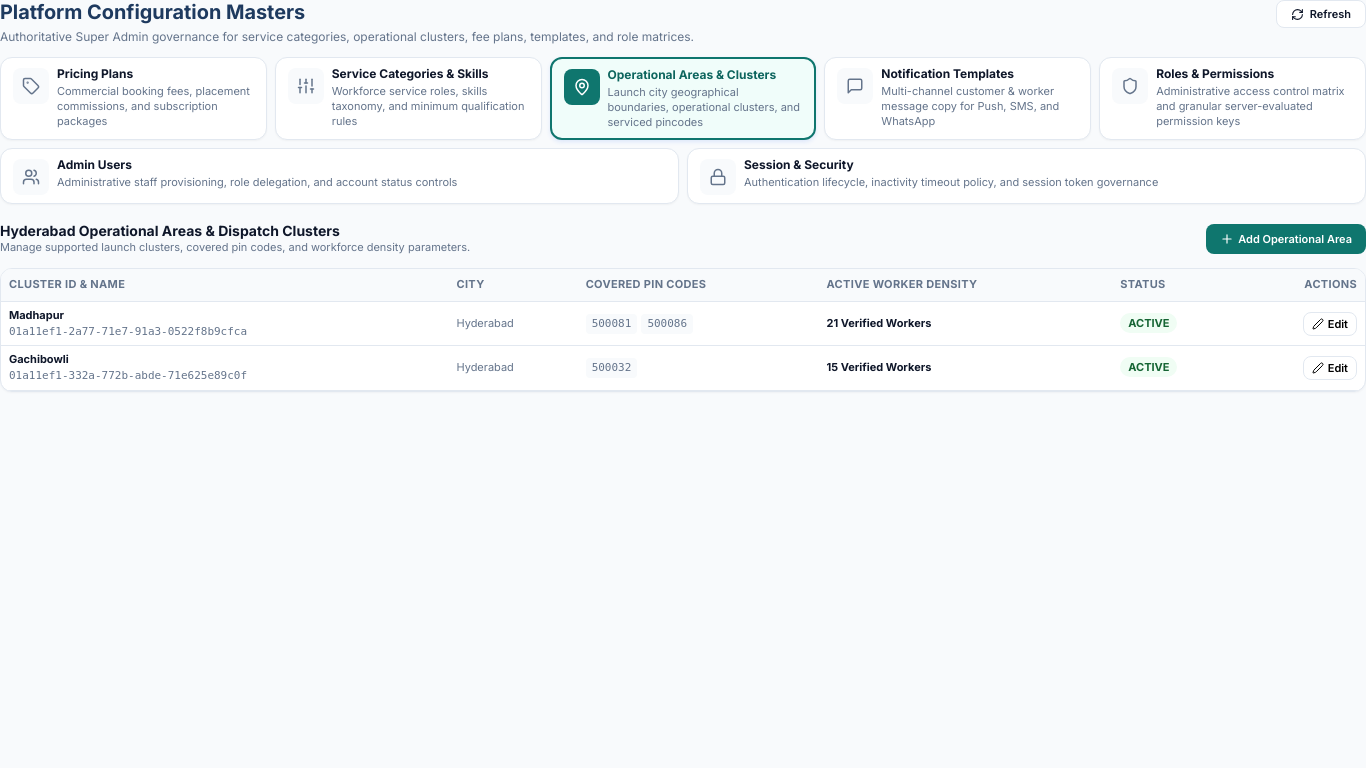
Test case: Operational Areas & Clusters Configuration Form › 5. Validates PIN code format and rejects invalid or malformed values
Click the button "Add Operational Area" at (1286, 239), box [1206,224,1365,254]
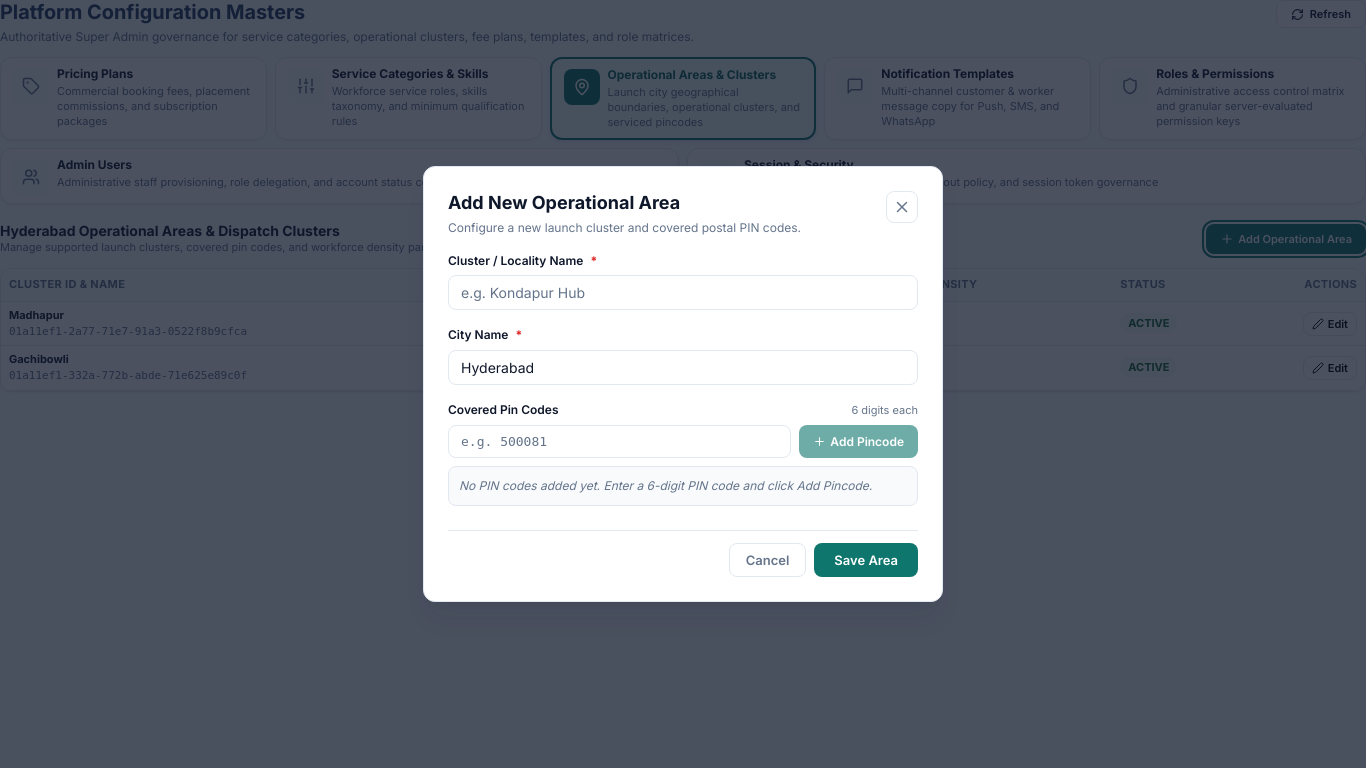
Less than 6 digits
Type "50008" into the field with placeholder "e.g. 500081" at (620, 441), box [448,425,791,458]
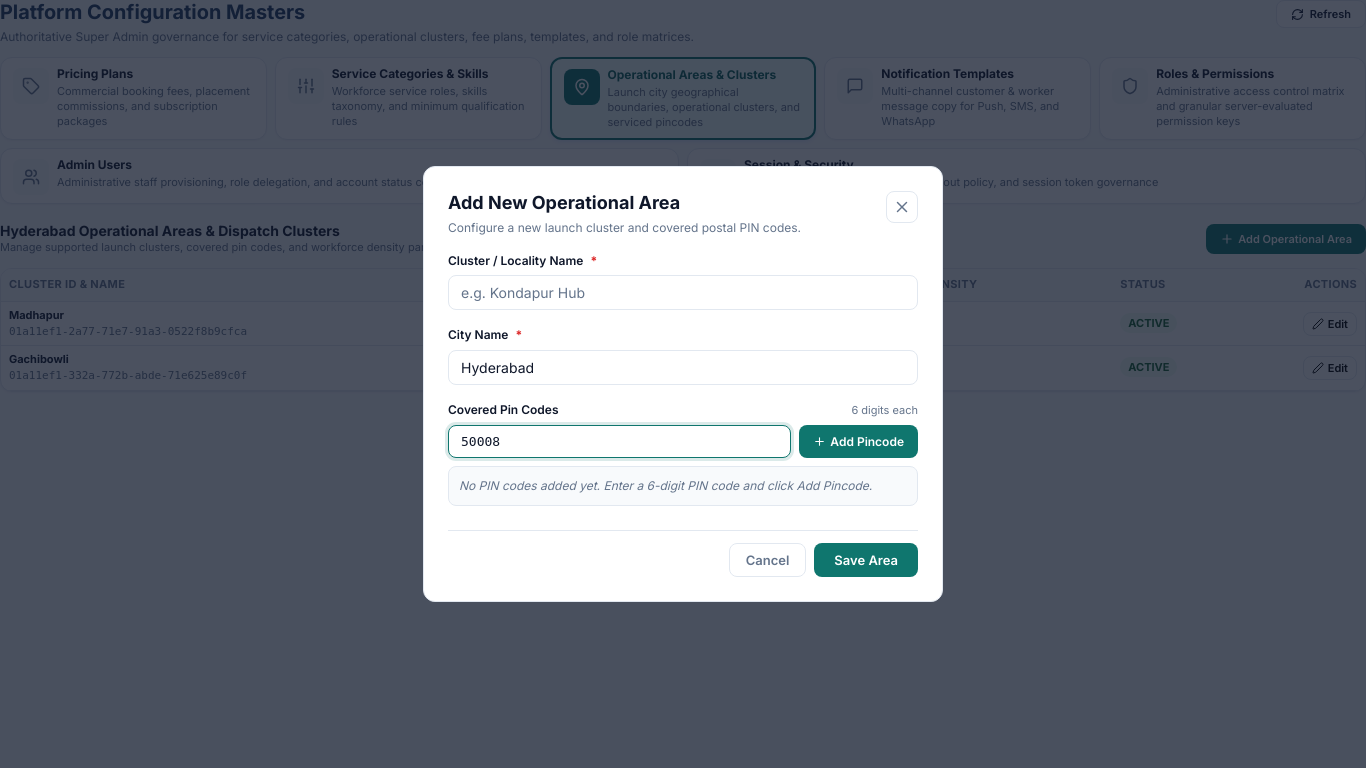
Click the button "Add Pincode" at (859, 441), box [799,425,918,458]
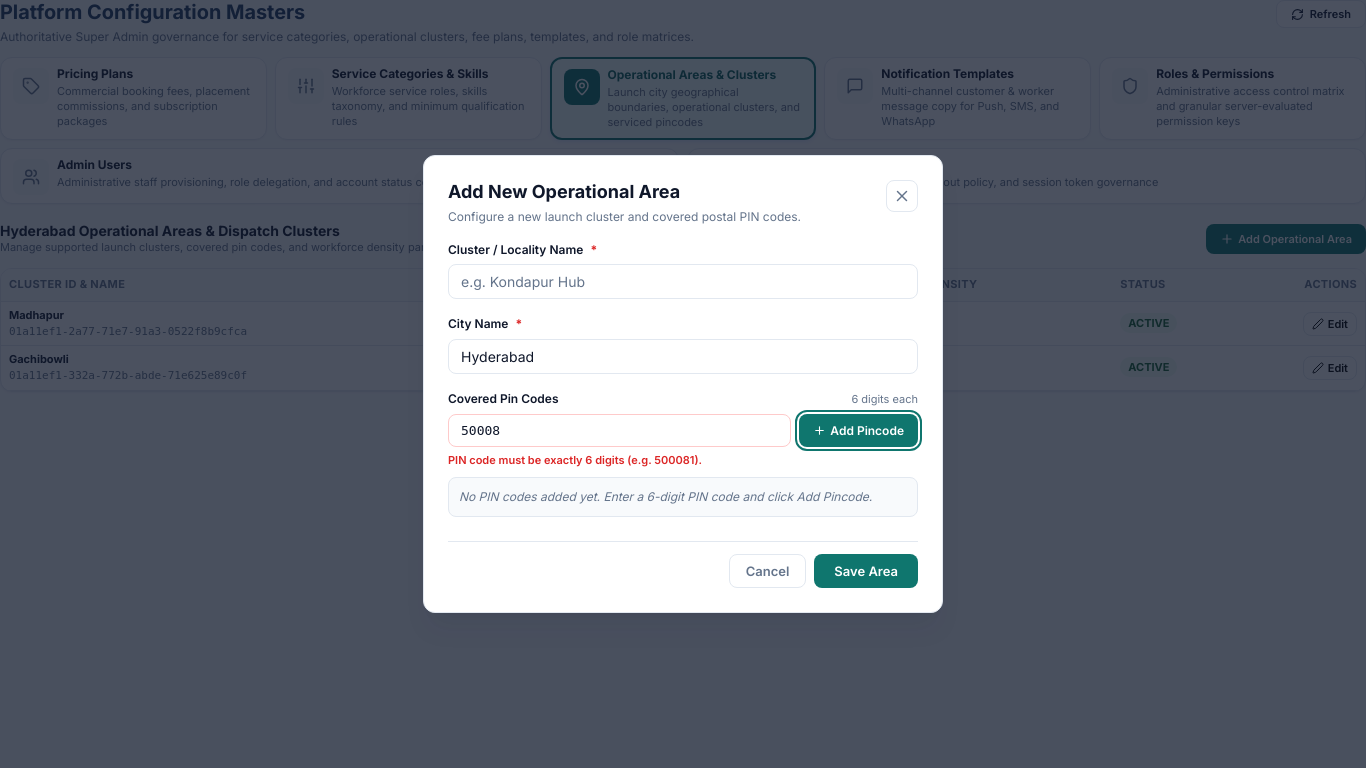
Now the text "PIN code must be exactly 6 digits (e.g. 500081)." is shown, box [448,453,702,467]
Starting with 0
Clear the field with placeholder "e.g. 500081" at (620, 430), box [448,414,791,447]
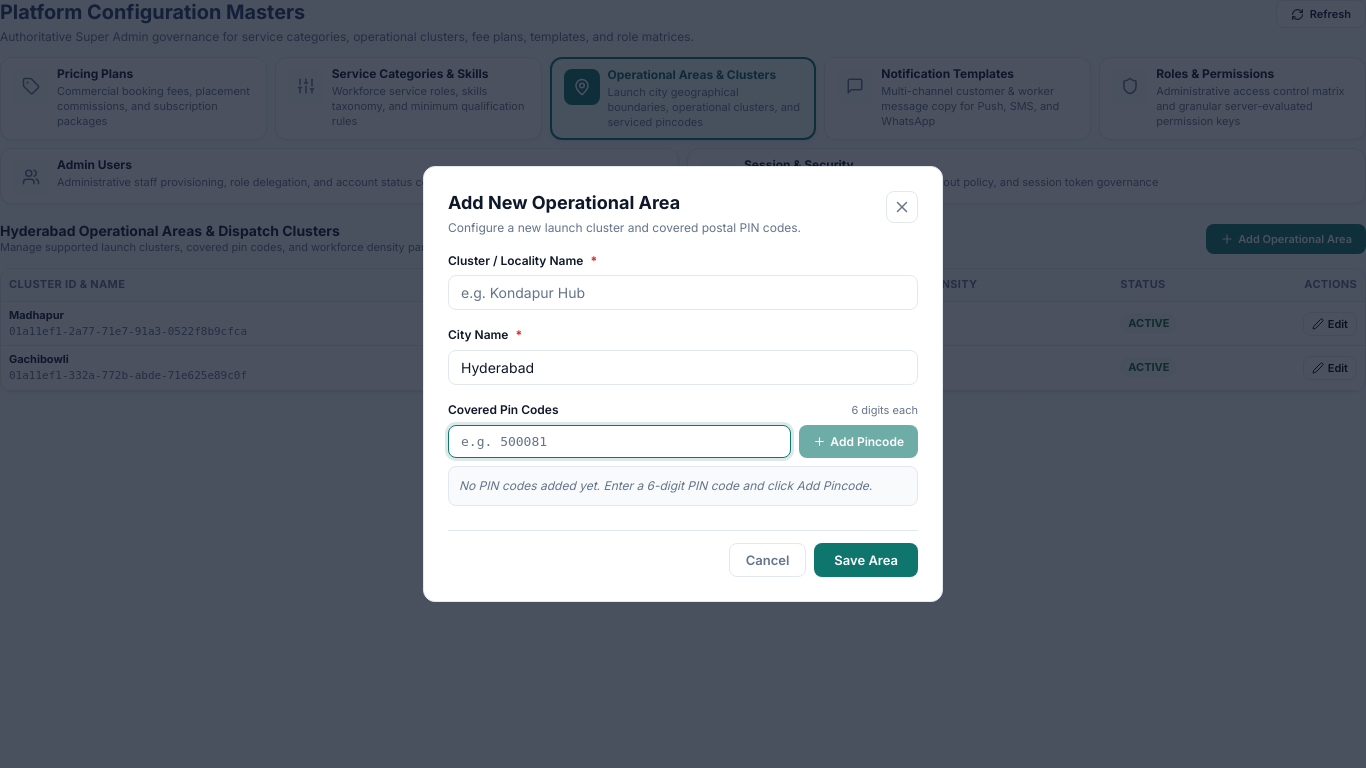
Type "050081" into the field with placeholder "e.g. 500081" at (620, 441), box [448,425,791,458]
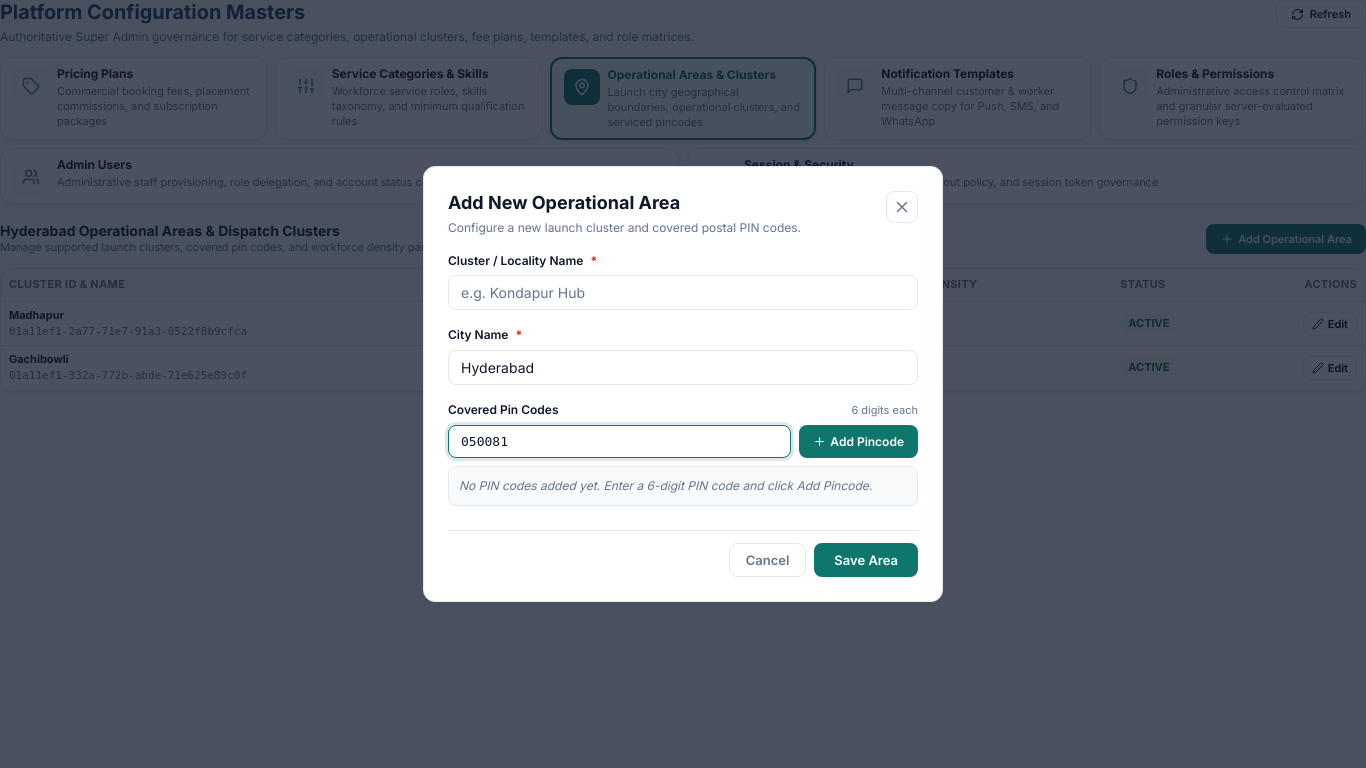
Click the button "Add Pincode" at (859, 441), box [799,425,918,458]
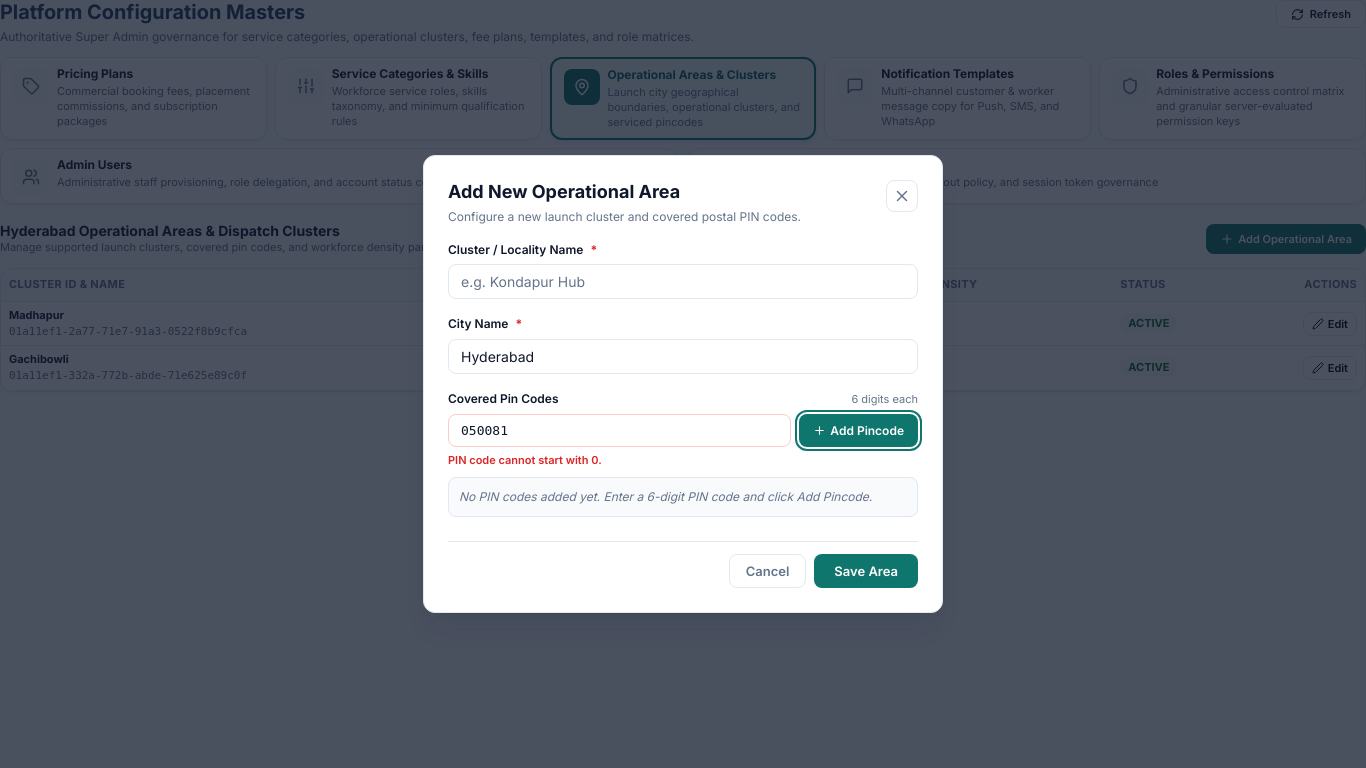
Now the text "PIN code cannot start with 0." is shown, box [448,453,602,467]
